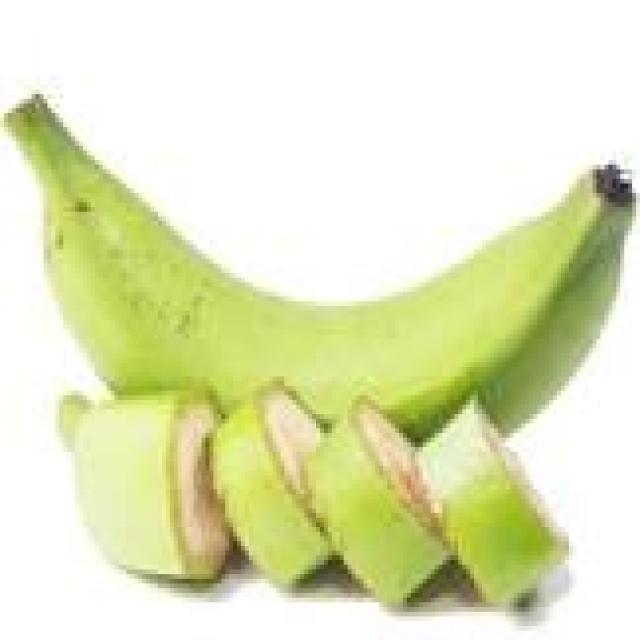banana: (8, 99, 632, 437), (479, 217, 632, 432), (60, 391, 229, 578), (419, 400, 568, 607), (309, 400, 450, 607), (210, 382, 331, 588)
